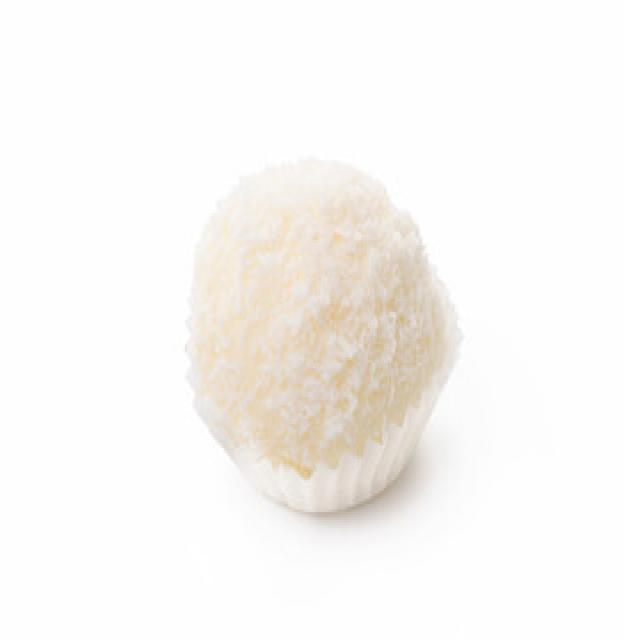Chocolate: (183, 158, 449, 501)
